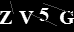5: (38, 7, 50, 22)
G: (59, 10, 74, 24)
V: (18, 10, 34, 25)
Z: (1, 9, 12, 25)
